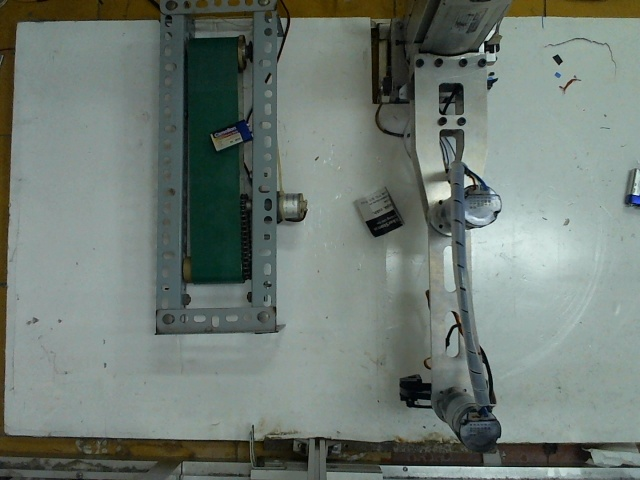battery: (205, 118, 254, 153)
